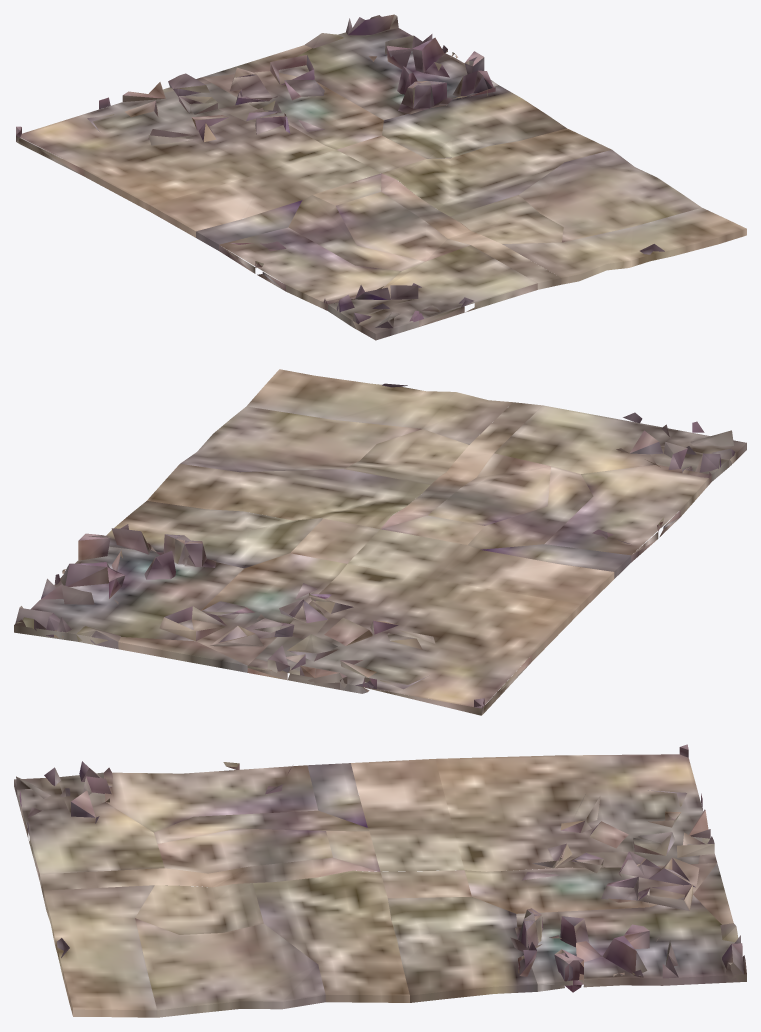
The picture shows the model from 3 angles, top to bottom: view 1: azimuth 30°, elevation 25°; view 2: azimuth 150°, elevation 25°; view 3: azimuth 270°, elevation 25°; orthographic projection. The views are drawn at different scales.
Visible parts, largest first — view 1: Mesh_0; view 2: Mesh_0; view 3: Mesh_0.
Part boxes in pixels (x1,y1,x2,y2): Mesh_0: [16, 14, 746, 340]; Mesh_0: [14, 369, 746, 715]; Mesh_0: [14, 744, 746, 1017].
Bounding box in the file's own units: 1071 × 79.04 × 1319.
Materials: 1 (1 with a texture image).
